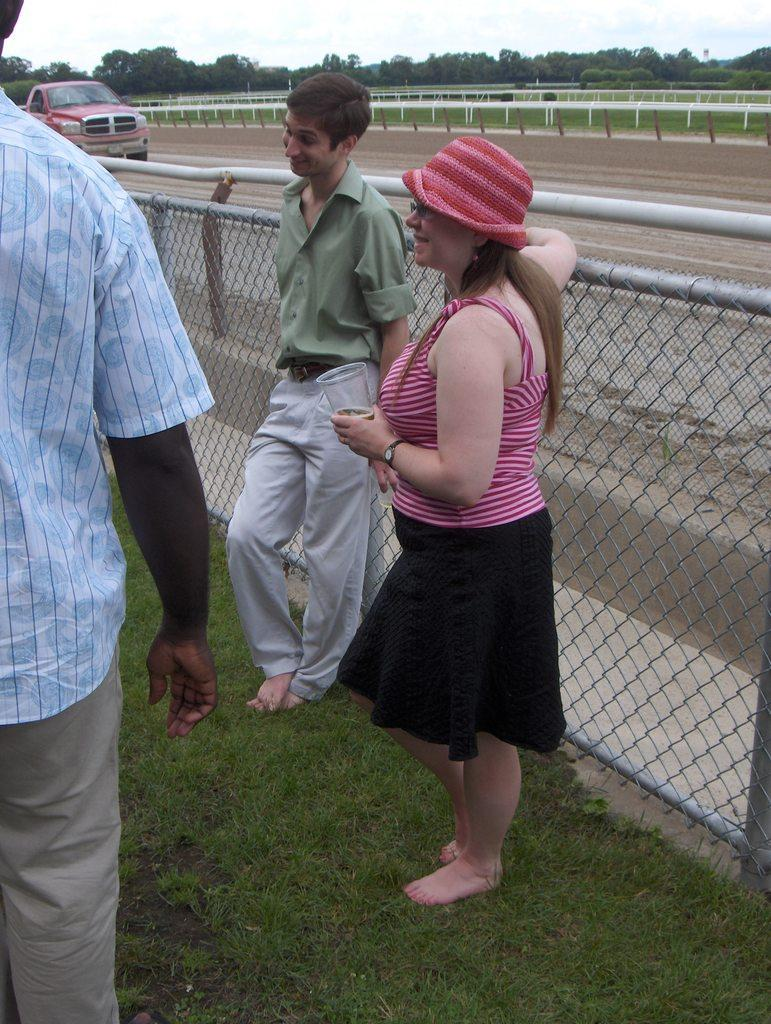Sem Máscara: (400, 202, 467, 269), (279, 108, 335, 176)
